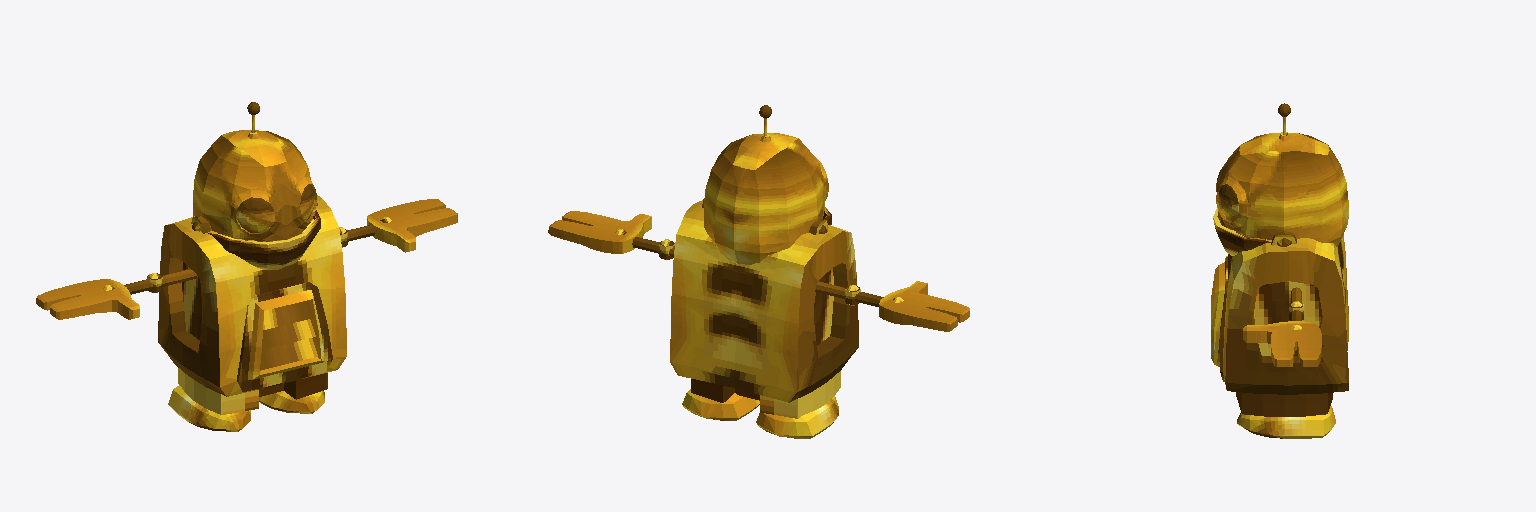
3 views of the same model, side by side, from view 1: azimuth 30°, elevation 25°; view 2: azimuth 150°, elevation 25°; view 3: azimuth 270°, elevation 25° (orthographic).
Parts seen in each view (by area): view 1: Mesh0, Mesh1; view 2: Mesh0, Mesh1; view 3: Mesh0, Mesh1.
Part boxes in pixels (left/top/right/bottom): Mesh0: left=158, top=102, right=346, bottom=431; Mesh1: left=36, top=199, right=457, bottom=319; Mesh0: left=670, top=105, right=858, bottom=438; Mesh1: left=548, top=211, right=969, bottom=331; Mesh0: left=1211, top=103, right=1348, bottom=438; Mesh1: left=1243, top=287, right=1321, bottom=366.
Bounding box in the file's own units: 25.69 × 18.55 × 7.68.
Materials: 2 (1 with a texture image).